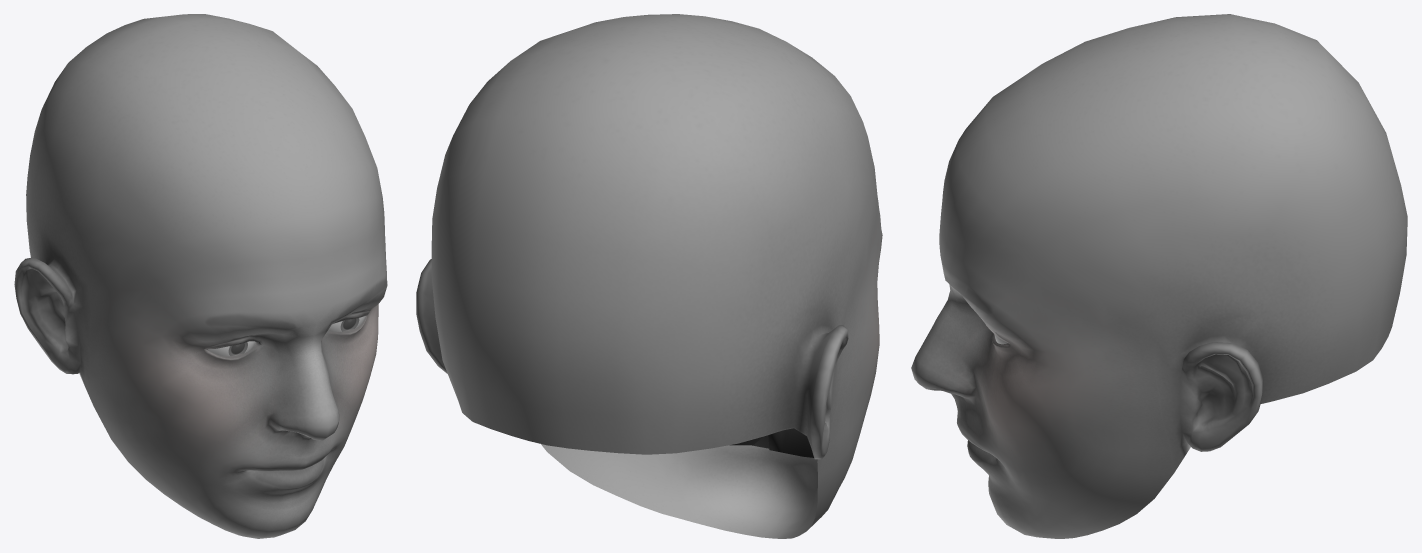
3 views of the same model, side by side, from view 1: azimuth 30°, elevation 25°; view 2: azimuth 150°, elevation 25°; view 3: azimuth 270°, elevation 25° (orthographic). The views are drawn at different scales.
Parts seen in each view (by area): view 1: head; view 2: head; view 3: head.
Boxes of the visible parts, x1,y1,x2,y2 form: head: [14, 14, 387, 538]; head: [416, 14, 882, 538]; head: [911, 14, 1407, 538].
Bounding box in the file's own units: 0.1903 × 0.2494 × 0.2263.
Materials: 1 (1 with a texture image).
